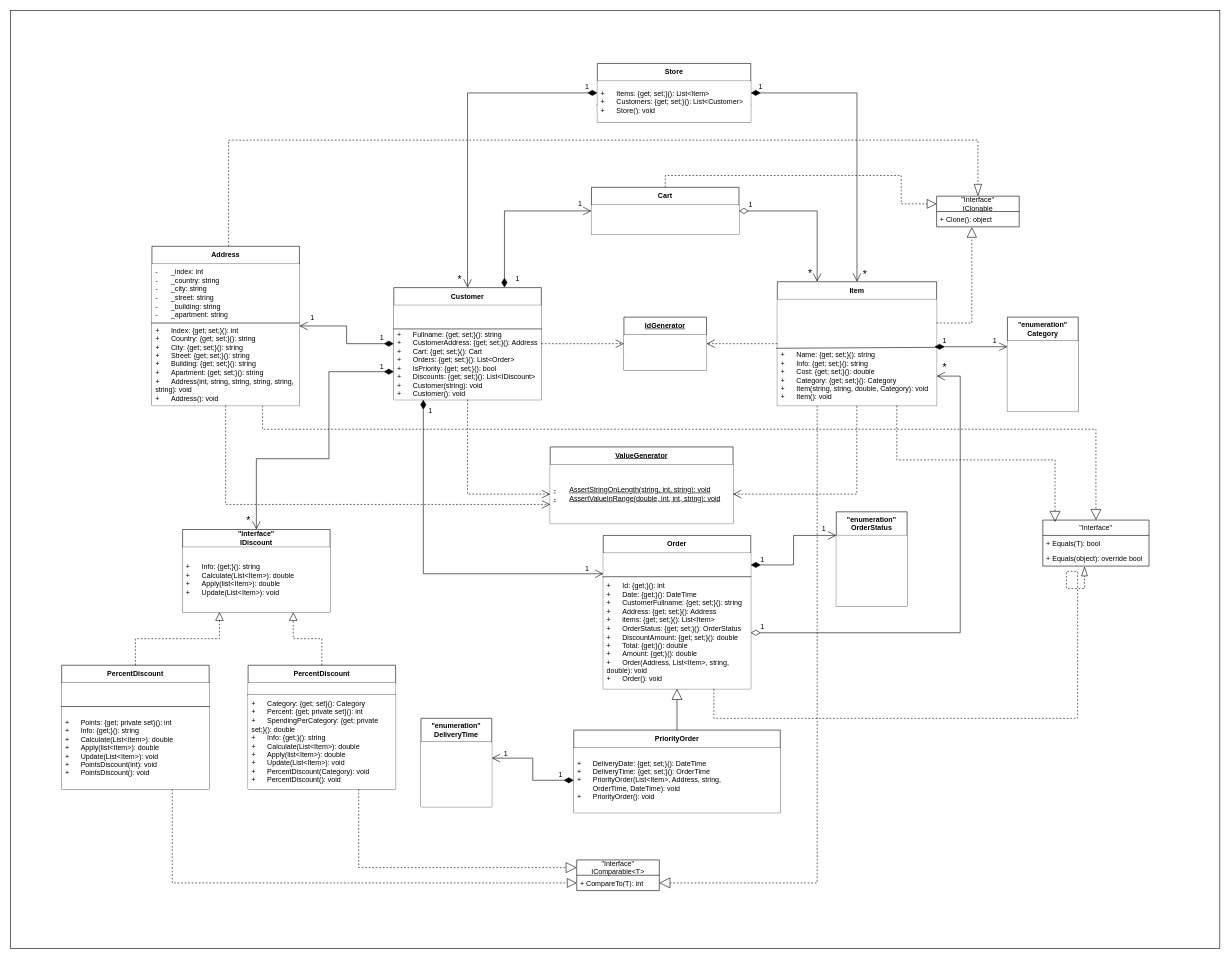
This 1230x959 diagram has some shape labels left out. Here are the shapes that lost their labels. From the top down, the centre of each, then its label:
At [665,219]: "+ Items: {get; set;}(): List<Item> + Amount: {get;}(): double + Cart(): void".
At [467,317]: "- _id: readonly int - _fullname: string".
At [856,322]: "- _id: readonly int - _name: string - _info: string - _cost: double".
At [665,343]: "- _nextId: int".
At [665,361]: "- GetNextId(): int".
At [1042,375]: "Medicine Clothing Products Technique Chancellery Books Groceries".
At [676,564]: "- _id: int - _data: DateTime".
At [871,570]: "New Processing Assembly Sent Delivered Returned Abandoned".
At [135,694]: "- _points: int - _maxDiscountPercentage: const int".
At [321,688]: "- _percent: int".
At [456,774]: "f9t11 f11t13 f13t15 f15t17 f17t19 f19t21".
